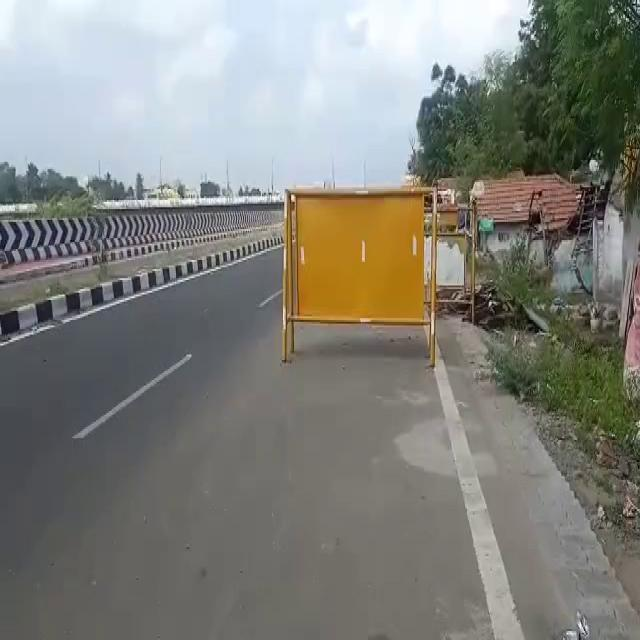fallen_object: (263, 166, 458, 386)
